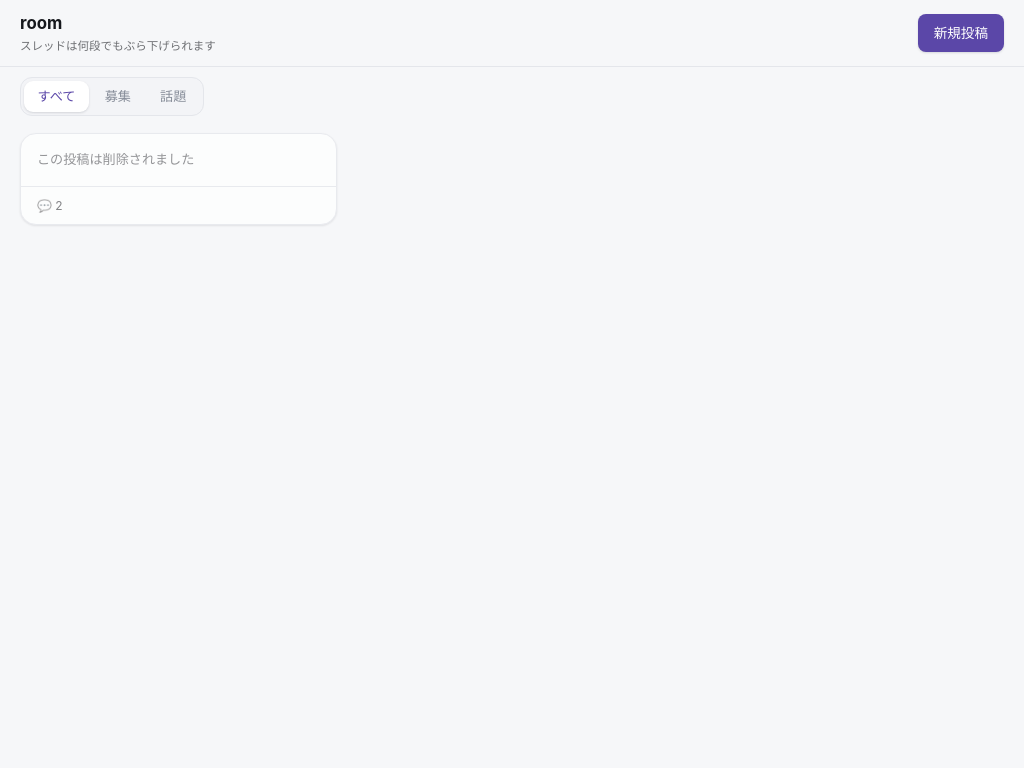
Scenario: ProjectBoard (recursive rendering) › a deleted root with replies stays as a tombstone card whose thread is still reachable
The width and height of the screenshot is (1024, 768).
Expected: the text "I can help!" is not shown
Note: Opening it shows the surviving thread beneath the tombstone.
Click the text "この投稿は削除されました": point(116, 160) top-left (37, 152), bottom-right (194, 168)
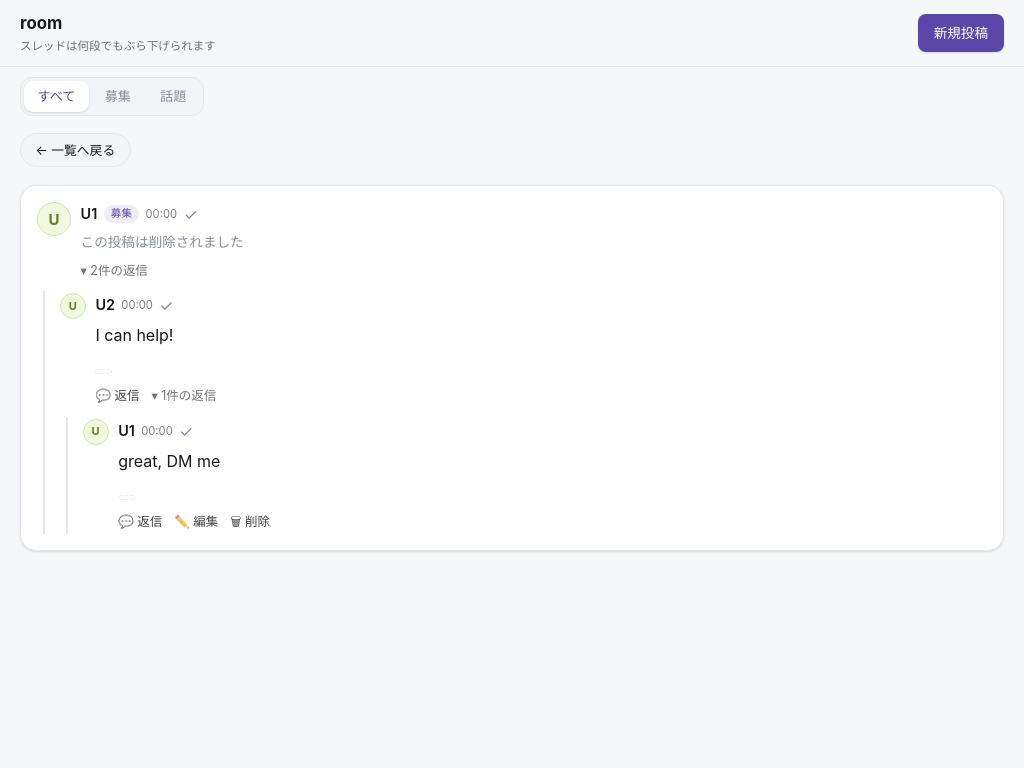
Expected: the text "I can help!" is shown, top-left (95, 325), bottom-right (174, 345)
Expected: the text "great, DM me" is shown, top-left (118, 451), bottom-right (220, 471)
